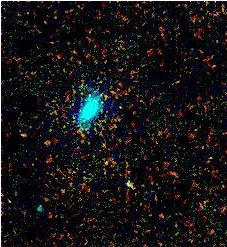star: (32, 127, 62, 157)
